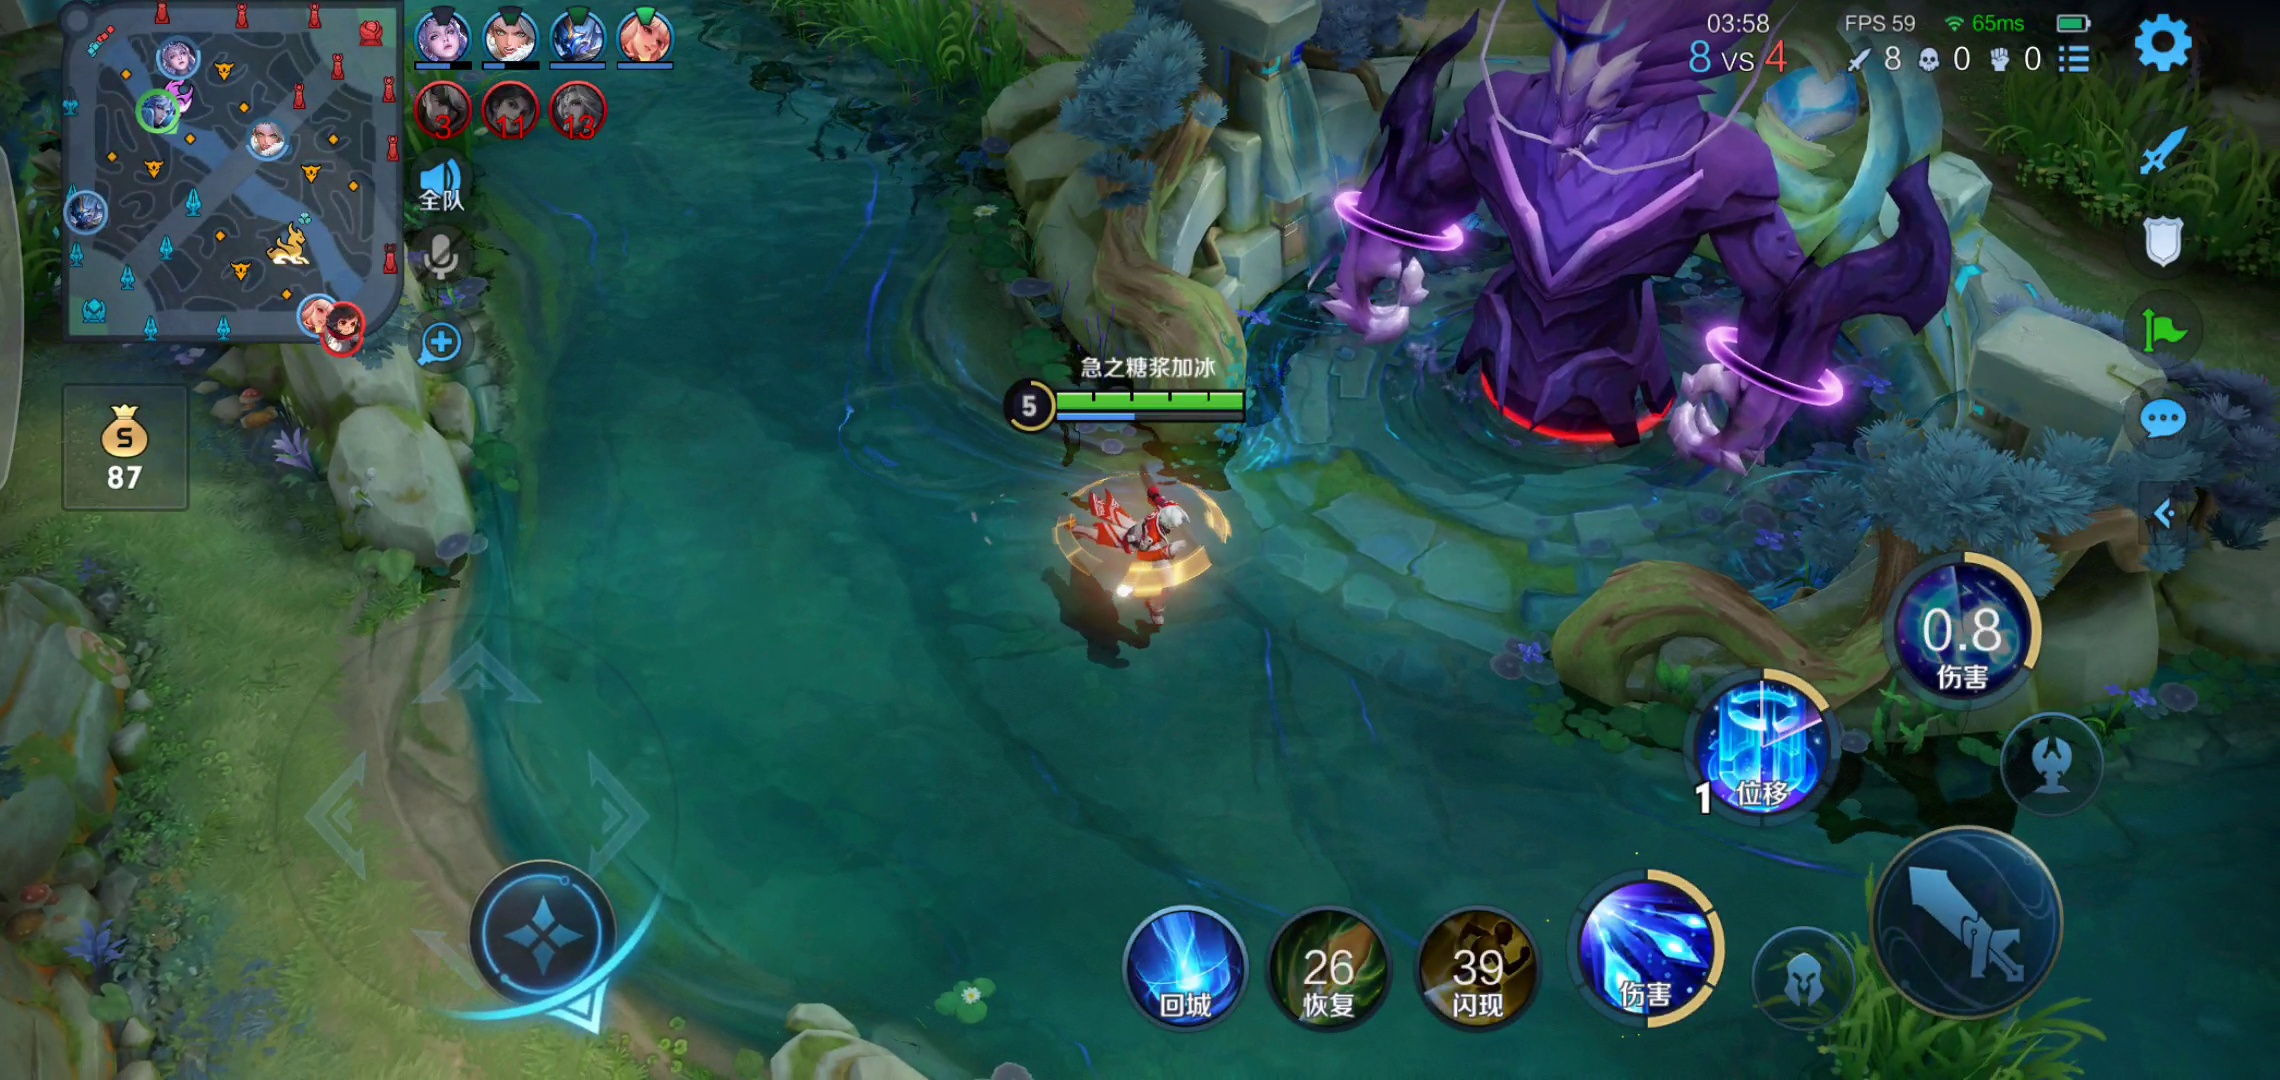dragon: (1333, 1, 1911, 493)
grass: (1999, 38, 2263, 307), (1783, 917, 2124, 1073), (788, 1, 1043, 102)
hero: (1040, 459, 1245, 645)
